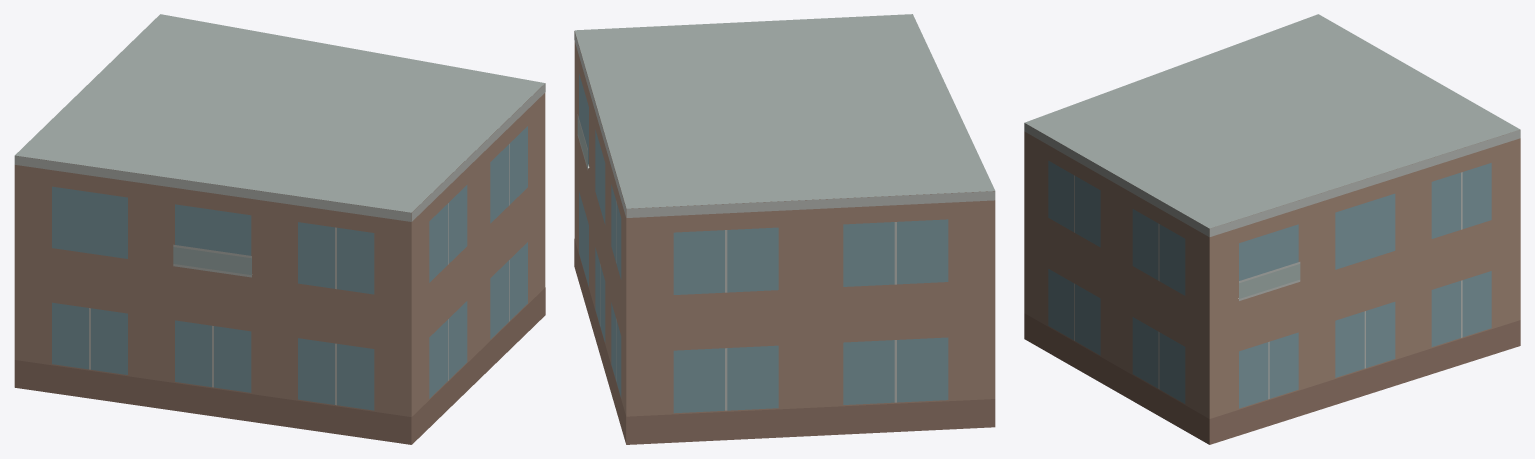
File: survey-upis-32777438.glb
The picture shows the model from 3 angles, left to right: view 1: azimuth 30°, elevation 25°; view 2: azimuth 150°, elevation 25°; view 3: azimuth 270°, elevation 25°; orthographic projection. The views are drawn at different scales.
Visible parts, largest first — view 1: survey-upis-32777438.tmp; view 2: survey-upis-32777438.tmp; view 3: survey-upis-32777438.tmp.
Part boxes in pixels (left/top/right/bottom): survey-upis-32777438.tmp: left=14, top=14, right=545, bottom=444; survey-upis-32777438.tmp: left=574, top=14, right=995, bottom=444; survey-upis-32777438.tmp: left=1024, top=14, right=1520, bottom=444.
Bounding box in the file's own units: 12.99 × 6.1 × 12.7.
